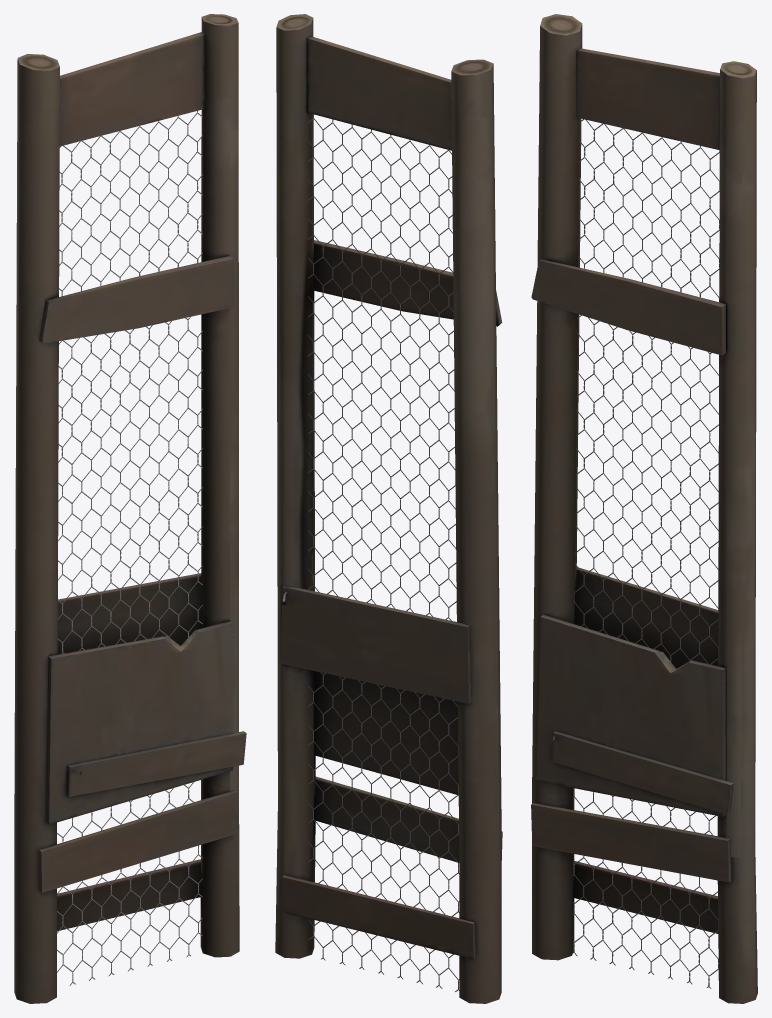
The picture shows the model from 3 angles, left to right: view 1: azimuth 30°, elevation 25°; view 2: azimuth 150°, elevation 25°; view 3: azimuth 330°, elevation 25°; orthographic projection.
Parts seen in each view (by area): view 1: body0_model0_lod0_mesh1, body0_model0_lod0_mesh0; view 2: body0_model0_lod0_mesh1, body0_model0_lod0_mesh0; view 3: body0_model0_lod0_mesh1, body0_model0_lod0_mesh0.
Boxes of the visible parts, left/top/right/bottom form: body0_model0_lod0_mesh1: left=14, top=14, right=246, bottom=1003; body0_model0_lod0_mesh0: left=57, top=111, right=202, bottom=985; body0_model0_lod0_mesh1: left=275, top=14, right=502, bottom=1003; body0_model0_lod0_mesh0: left=308, top=114, right=459, bottom=991; body0_model0_lod0_mesh1: left=531, top=14, right=757, bottom=1003; body0_model0_lod0_mesh0: left=572, top=119, right=719, bottom=988.
Bounding box in the file's own units: 66.65 × 268 × 21.57.
Materials: 2 (2 with a texture image).
